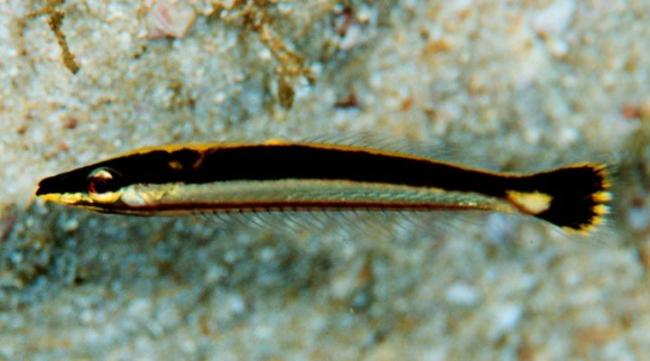fish: (34, 134, 618, 246)
